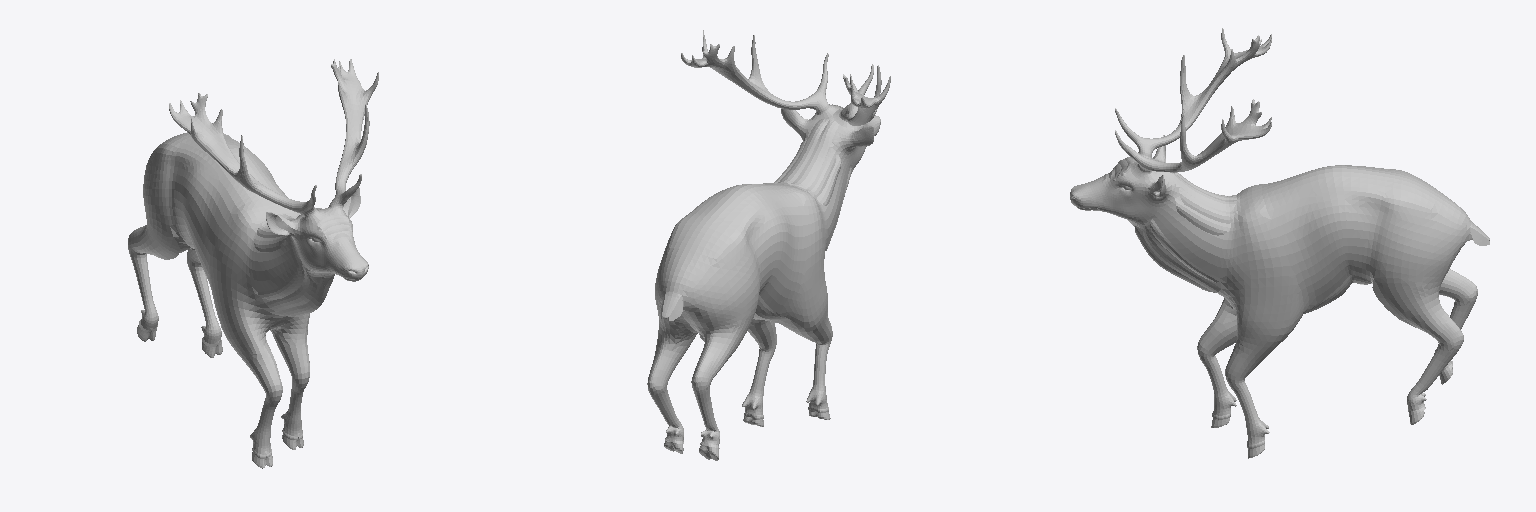
The model's file is frame_0019_uv.obj.
3 views of the same model, side by side, from view 1: azimuth 30°, elevation 25°; view 2: azimuth 150°, elevation 25°; view 3: azimuth 270°, elevation 25° (orthographic).
Visible parts, largest first — view 1: pMesh1; view 2: pMesh1; view 3: pMesh1.
Part boxes in pixels (bbox=[...]): pMesh1: bbox=[128, 59, 378, 468]; pMesh1: bbox=[647, 30, 890, 460]; pMesh1: bbox=[1070, 28, 1489, 458].
Bounding box in the file's own units: 1.05 × 2 × 2.03.